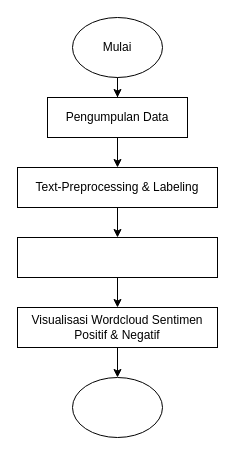
Some shapes in this 235 by 455 pixel diagram are drawn without their labels. The centre of each missing label's shape, as x and y in pixels:
"Analisis Sentimen" goes at [117,257].
"Selesai" goes at [117,407].
